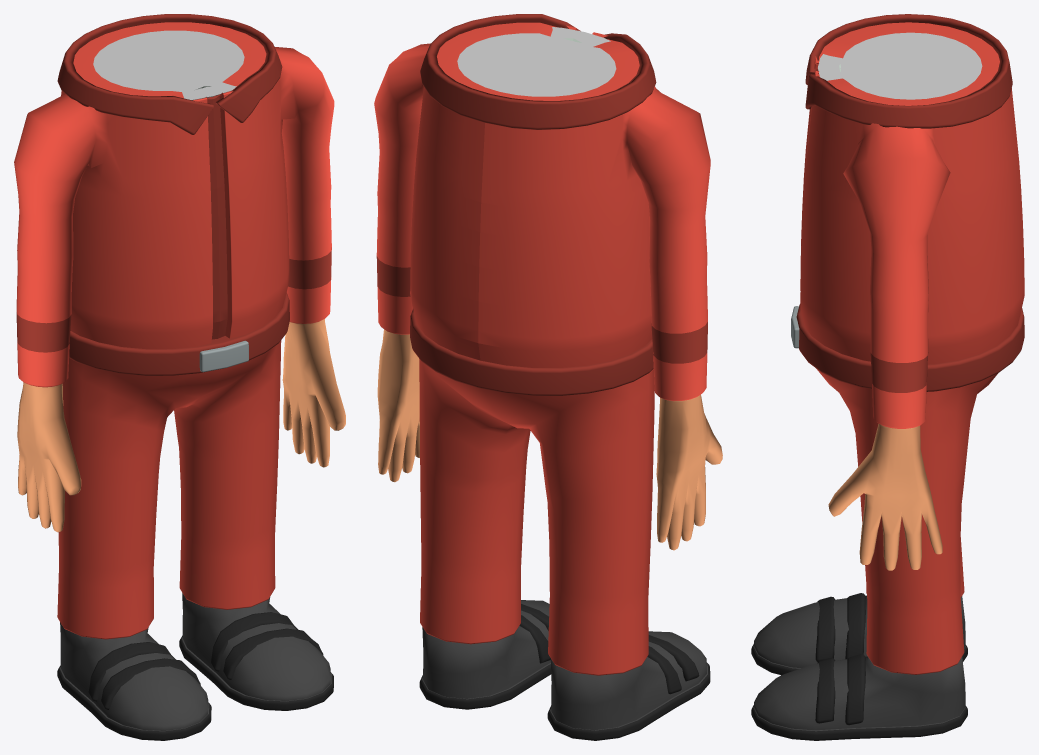
Rendered from body.fbx.
The picture shows the model from 3 angles, left to right: view 1: azimuth 30°, elevation 25°; view 2: azimuth 150°, elevation 25°; view 3: azimuth 270°, elevation 25°; orthographic projection. The views are drawn at different scales.
Parts seen in each view (by area): view 1: body; view 2: body; view 3: body.
Part boxes in pixels (x1=…): body: x1=14, y1=14, x2=345, y2=740; body: x1=374, y1=14, x2=722, y2=740; body: x1=751, y1=14, x2=1024, y2=740.
Size of the model in its own units: 0.7384 by 1.4 by 0.5526.
